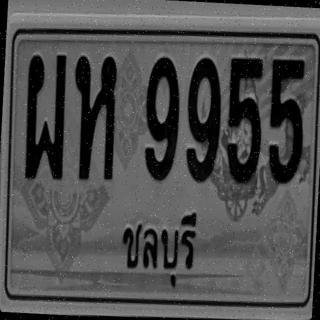A28: (15, 37, 71, 190)
A41: (62, 44, 130, 203)
N05: (218, 37, 275, 216), (262, 48, 314, 218)
N09: (175, 44, 228, 198), (134, 46, 186, 200)
P13: (109, 201, 210, 291)
